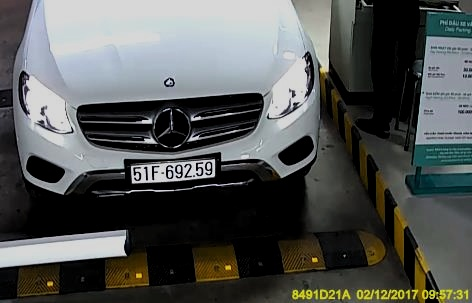plate: (128, 159, 216, 185)
